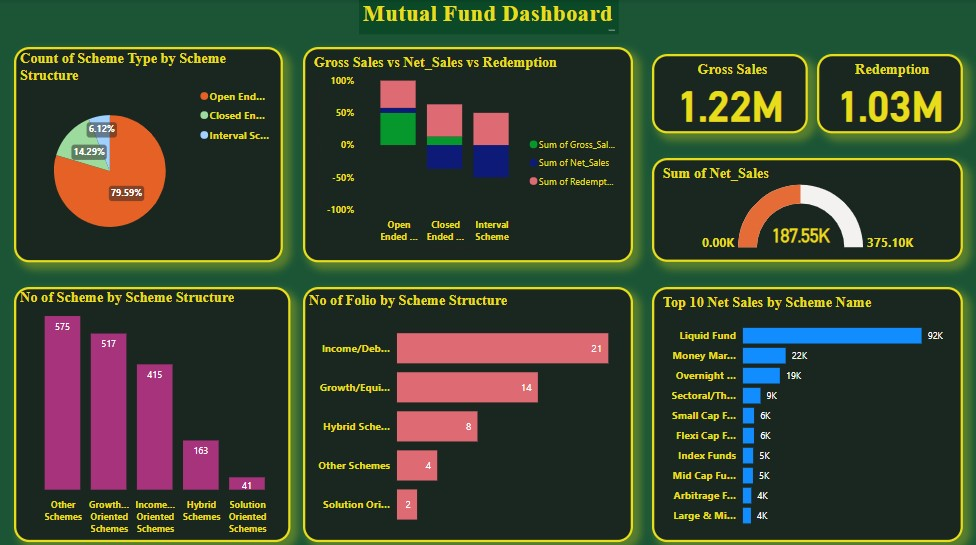

Layout of this report page (visuals, bound fields, positions):
{"tool":"powerbi","page":{"name":"Page 1","canvas":[1280,720],"ordinal":0},"visuals":[{"type":"columnChart","title":" No of Scheme by Scheme Structure","fields":{"Category":["statistics amfi_reports.Detailed_Scheme_Type"],"Y":["Sum(statistics amfi_reports.No_of_Scheme)"]},"box":[19,375.2,362.1,334.3],"z":0},{"type":"pieChart","title":"Count of Scheme Type by Scheme Structure","fields":{"Category":["statistics amfi_reports.Scheme_Type"],"Y":["CountNonNull(statistics amfi_reports.Detailed_Scheme_Type)"]},"box":[19,61.3,351.9,281.8],"z":1000},{"type":"card","title":"Gross Sales","fields":{"Values":["Sum(statistics amfi_reports.Gross_Sales)"]},"box":[854.1,70.1,204.4,103.7],"z":2000},{"type":"card","title":"Redemption","fields":{"Values":["Sum(statistics amfi_reports.Redemption)"]},"box":[1070.2,70.1,191.3,103.7],"z":3000},{"type":"clusteredBarChart","title":"No of Folio by Scheme Structure","fields":{"Category":["statistics amfi_reports.Detailed_Scheme_Type"],"Y":["CountNonNull(statistics amfi_reports.No_of_Folio)"]},"box":[397.1,375.2,432.2,334.3],"z":4000},{"type":"clusteredBarChart","title":"Top 10 Net Sales by Scheme Name","fields":{"Category":["statistics amfi_reports.Scheme_Name"],"Y":["Sum(statistics amfi_reports.Net_Sales)"]},"box":[854.1,375.2,407.3,334.3],"z":5000},{"type":"hundredPercentStackedColumnChart","title":"Gross Sales vs Net_Sales vs Redemption ","fields":{"Category":["statistics amfi_reports.Scheme_Type"],"Y":["Sum(statistics amfi_reports.Gross_Sales)","Sum(statistics amfi_reports.Net_Sales)","Sum(statistics amfi_reports.Redemption)"]},"box":[397.1,61.3,432.2,281.8],"z":6000},{"type":"gauge","fields":{"Y":["Sum(statistics amfi_reports.Net_Sales)"]},"box":[854.1,207.3,407.3,135.8],"z":7000},{"type":"textbox","title":"Mutual Fund Dashboard","box":[469.4,0,339.8,44.6],"z":8000}]}

Visuals, with their boxes in screenshot pixels (x1, y1, x2, y2), scaled from the page's 1280x720 canvas onto the 976x545 screenshot:
" No of Scheme by Scheme Structure" columnChart: [14,284,291,537]
"Count of Scheme Type by Scheme Structure" pieChart: [14,46,283,260]
"Gross Sales" card: [651,53,807,132]
"Redemption" card: [816,53,962,132]
"No of Folio by Scheme Structure" clusteredBarChart: [303,284,632,537]
"Top 10 Net Sales by Scheme Name" clusteredBarChart: [651,284,962,537]
"Gross Sales vs Net_Sales vs Redemption " hundredPercentStackedColumnChart: [303,46,632,260]
gauge - Sum(statistics amfi_reports.Net_Sales): [651,157,962,260]
"Mutual Fund Dashboard" textbox: [358,0,617,34]
